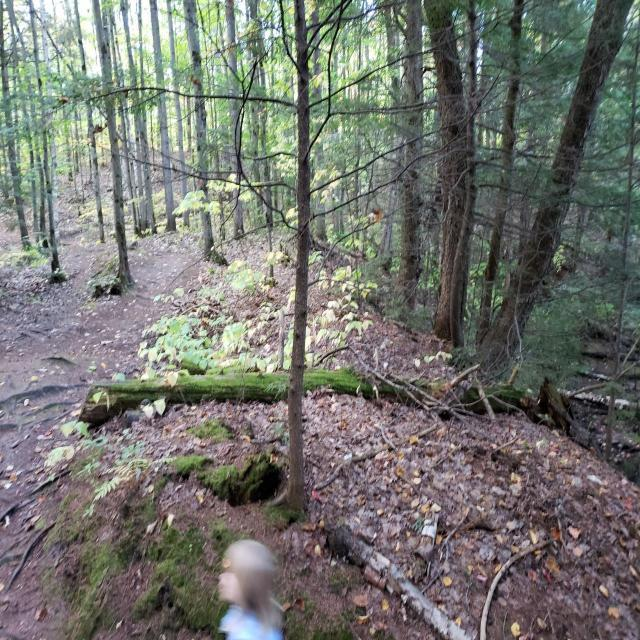fallen_object: (36, 323, 640, 482), (278, 491, 522, 640)
